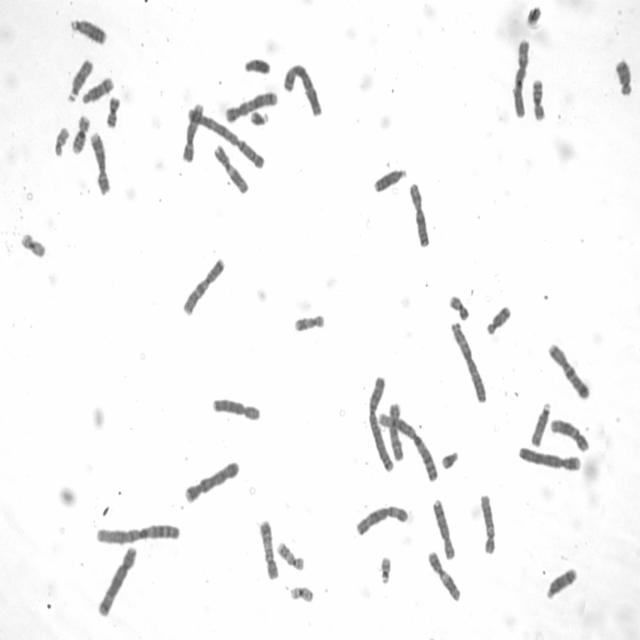A1: (374, 412, 438, 484), (94, 520, 181, 546)
A2: (184, 103, 267, 171), (365, 373, 395, 474)
A3: (449, 318, 487, 404), (282, 62, 324, 120)
B4: (182, 457, 241, 505), (516, 443, 582, 473)
B5: (100, 549, 138, 618), (223, 89, 280, 125)
C10: (257, 516, 280, 582), (386, 398, 404, 462)
C11: (212, 142, 250, 196), (426, 548, 462, 604)
C12: (549, 415, 591, 453), (478, 491, 496, 556)
C6: (354, 501, 409, 537), (511, 40, 530, 120)
C7: (180, 255, 226, 318), (546, 340, 590, 400)
C8: (431, 496, 456, 561), (210, 395, 262, 423)
C9: (181, 105, 207, 163), (87, 133, 110, 196)
D13: (68, 16, 108, 46), (372, 165, 408, 194)
D14: (80, 74, 115, 105), (548, 570, 578, 600)
D15: (66, 56, 94, 103), (529, 399, 552, 448)
E16: (69, 112, 92, 156), (530, 76, 547, 122)
E17: (276, 539, 306, 571), (292, 311, 326, 333)
E18: (484, 302, 512, 336), (613, 55, 634, 98)
F19: (19, 229, 47, 259), (288, 582, 314, 604)
F20: (447, 292, 471, 322), (104, 93, 122, 129)
G21: (439, 447, 460, 471), (248, 107, 270, 128)
G22: (50, 124, 73, 156), (378, 552, 393, 586)
X: (406, 180, 432, 250)
Y: (242, 54, 271, 76)
